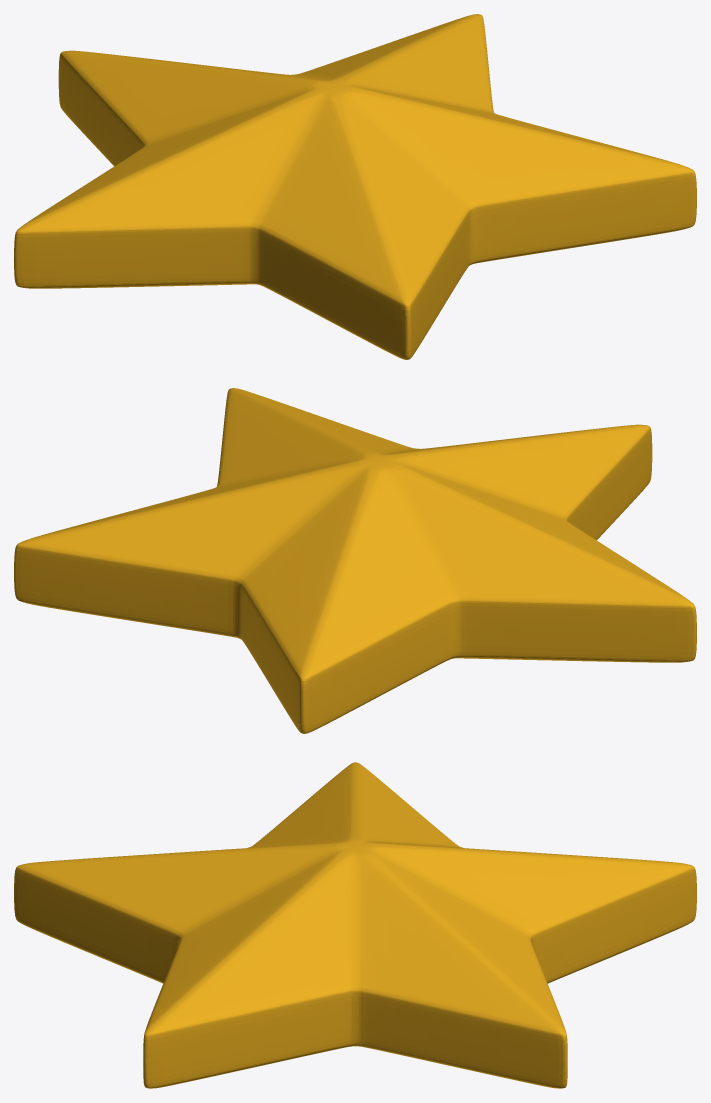
File: Star.fbx
3 renders of one model, top to bottom at view 1: azimuth 30°, elevation 25°; view 2: azimuth 150°, elevation 25°; view 3: azimuth 270°, elevation 25°, orthographic. The views are drawn at different scales.
Visible parts, largest first — view 1: Star; view 2: Star; view 3: Star.
Boxes of the visible parts, x1,y1,x2,y2 form: Star: [14, 14, 696, 359]; Star: [14, 388, 696, 733]; Star: [14, 762, 696, 1088].
Size of the model in its own units: 178 by 55.76 by 187.
